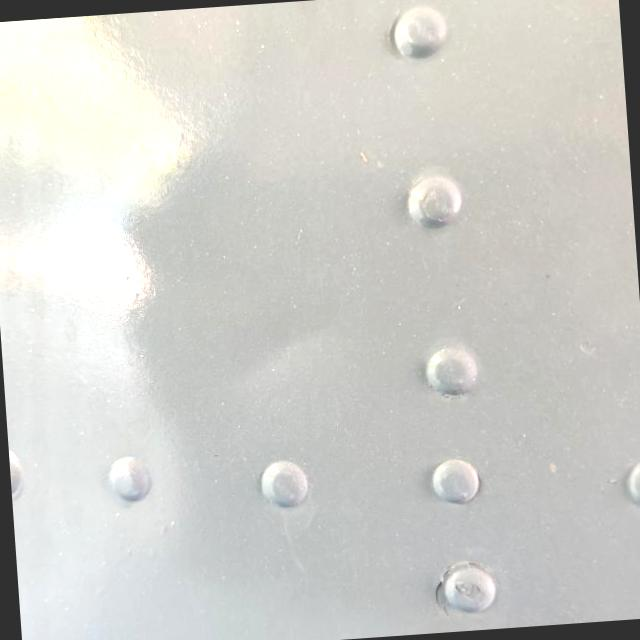dent: (206, 290, 356, 430)
